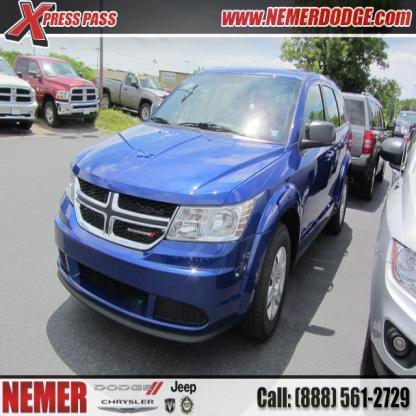car: (57, 69, 352, 344)
